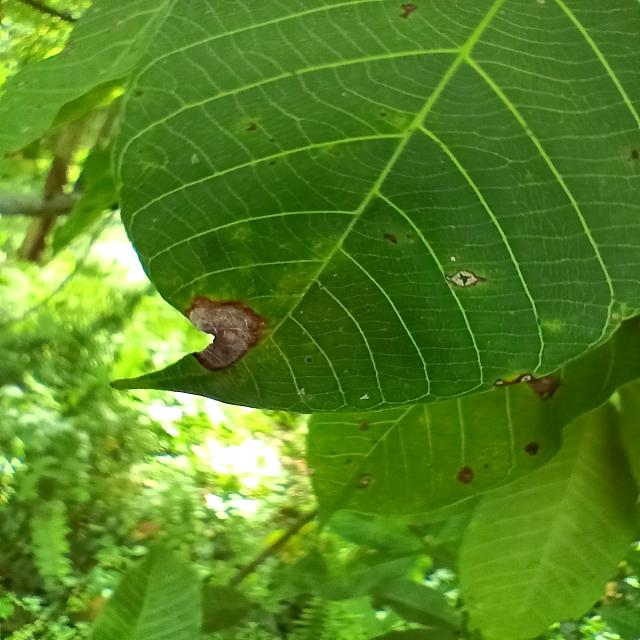Colletotrichum: (525, 442, 538, 456), (518, 373, 534, 384), (494, 378, 505, 387), (306, 357, 314, 363)
Leaf-Blight: (188, 299, 258, 369)
